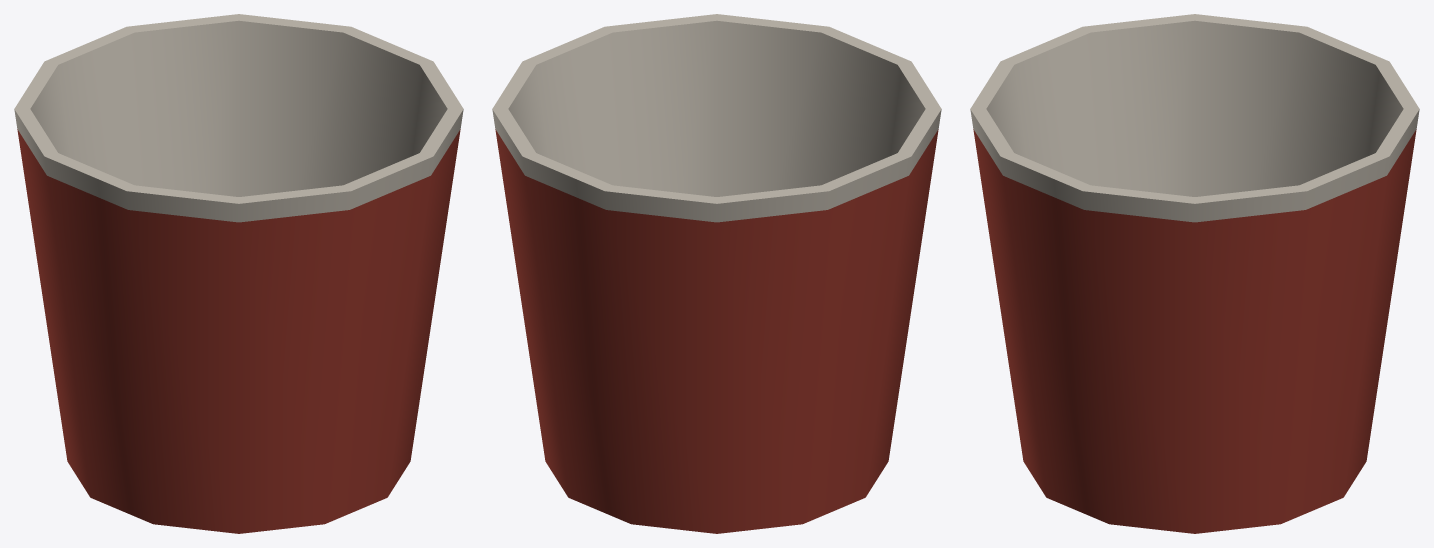
Rendered from FastFoodBox_01_Large.fbx.
3 views of the same model, side by side, from view 1: azimuth 30°, elevation 25°; view 2: azimuth 150°, elevation 25°; view 3: azimuth 270°, elevation 25° (orthographic).
Visible parts, largest first — view 1: FastFoodBox_01_Large; view 2: FastFoodBox_01_Large; view 3: FastFoodBox_01_Large.
Part boxes in pixels (x1,y1,x2,y2): FastFoodBox_01_Large: (14,14,463,533); FastFoodBox_01_Large: (492,14,941,533); FastFoodBox_01_Large: (970,14,1419,533).
Bounding box in the file's own units: 0.2567 × 0.2222 × 0.2567.
